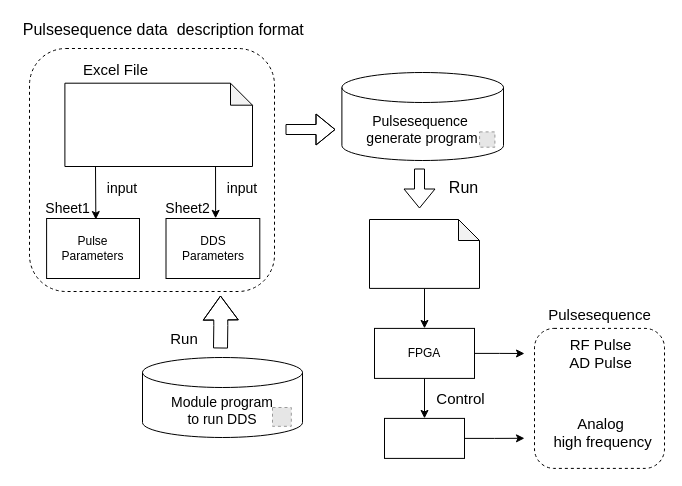
Image size: 682x486. Some labels were removed from this diagram. Grey dashed boxes stand in for pictures. The centre of each missing label's shape, as x and y in pixels:
"CSV For FPGA" belongs at point 424,253.
"DDS" belongs at point 424,437.
"pulsedata.xlsm" belongs at point 158,124.
